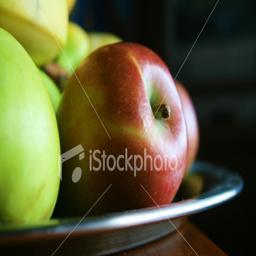apple: (55, 43, 188, 211)
